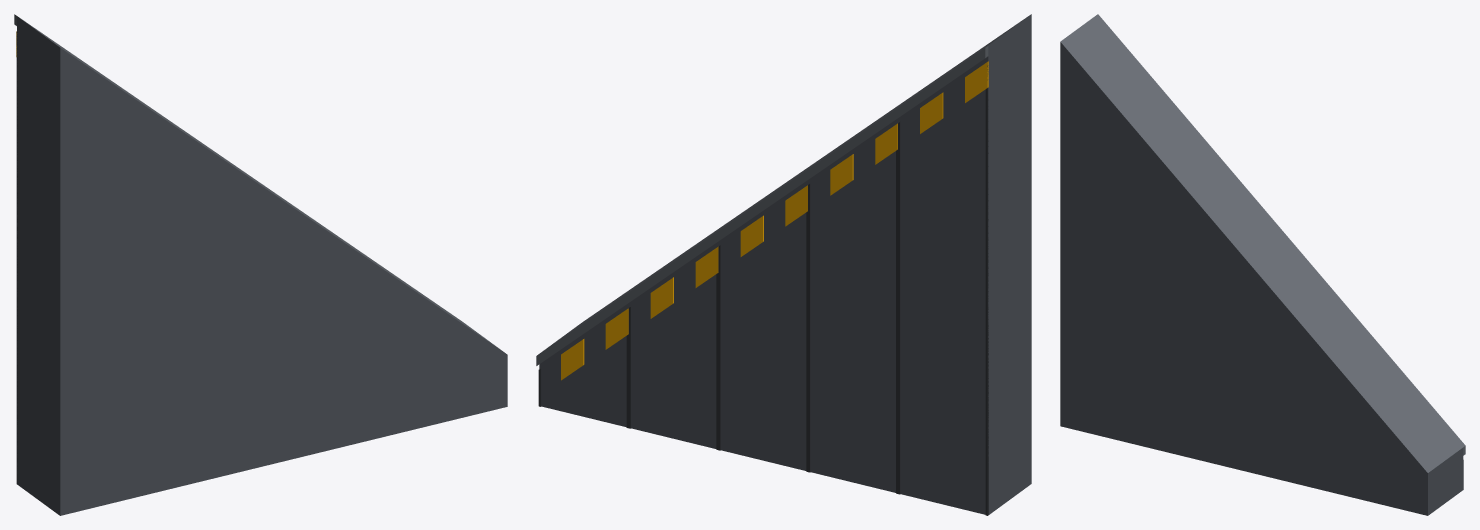
3 renders of one model, left to right at view 1: azimuth 30°, elevation 25°; view 2: azimuth 150°, elevation 25°; view 3: azimuth 330°, elevation 25°, orthographic. The views are drawn at different scales.
Parts seen in each view (by area): view 1: b4wf; view 2: b4wf; view 3: b4wf.
Boxes of the visible parts, x1,y1,x2,y2 form: b4wf: (14,14,507,515); b4wf: (536,14,1031,515); b4wf: (1060,14,1465,515).
Bounding box in the file's own units: 9 × 9 × 1.6.
